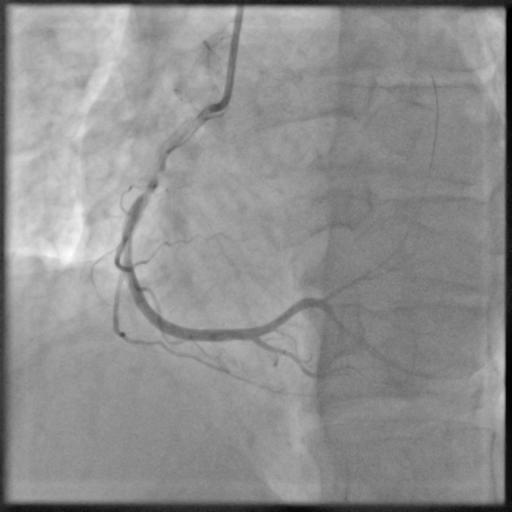Stenosis: (147, 159, 163, 197)
